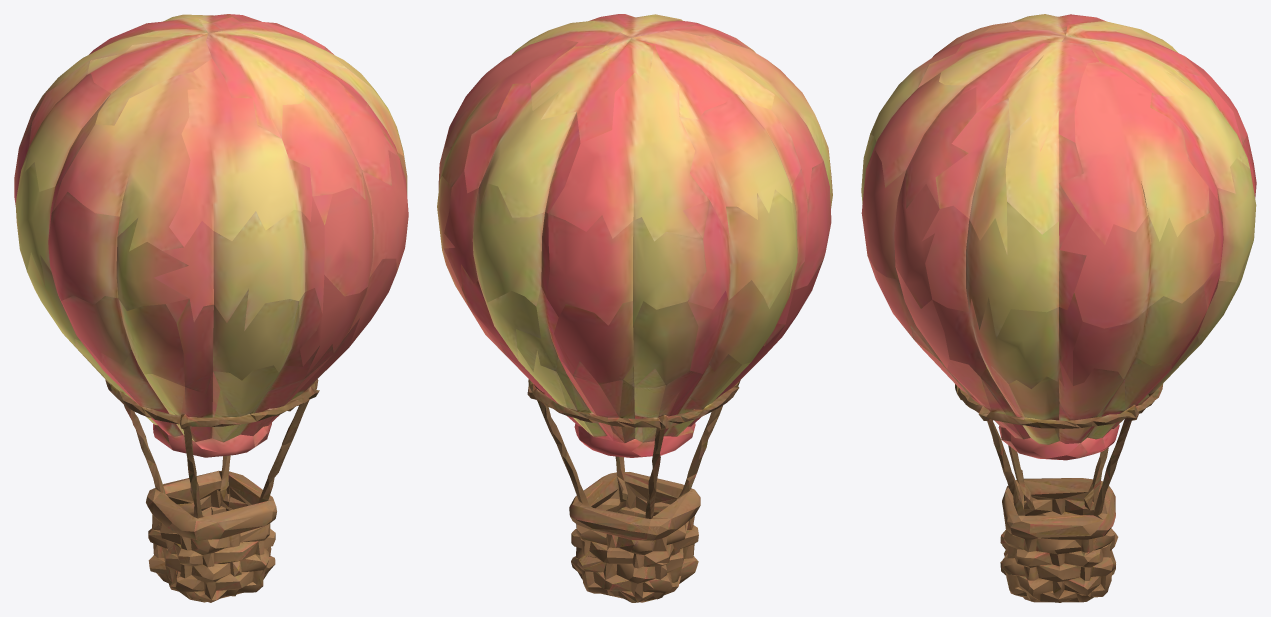
The model's file is balloon.glb.
3 views of the same model, side by side, from view 1: azimuth 30°, elevation 25°; view 2: azimuth 150°, elevation 25°; view 3: azimuth 270°, elevation 25° (orthographic).
Visible parts, largest first — view 1: Mesh_0; view 2: Mesh_0; view 3: Mesh_0.
Part boxes in pixels (left/top/right/bottom): Mesh_0: left=14, top=14, right=408, bottom=602; Mesh_0: left=437, top=14, right=832, bottom=602; Mesh_0: left=861, top=14, right=1256, bottom=602.
Bounding box in the file's own units: 1.23 × 1.9 × 1.23.
1 material, 1 textured.
